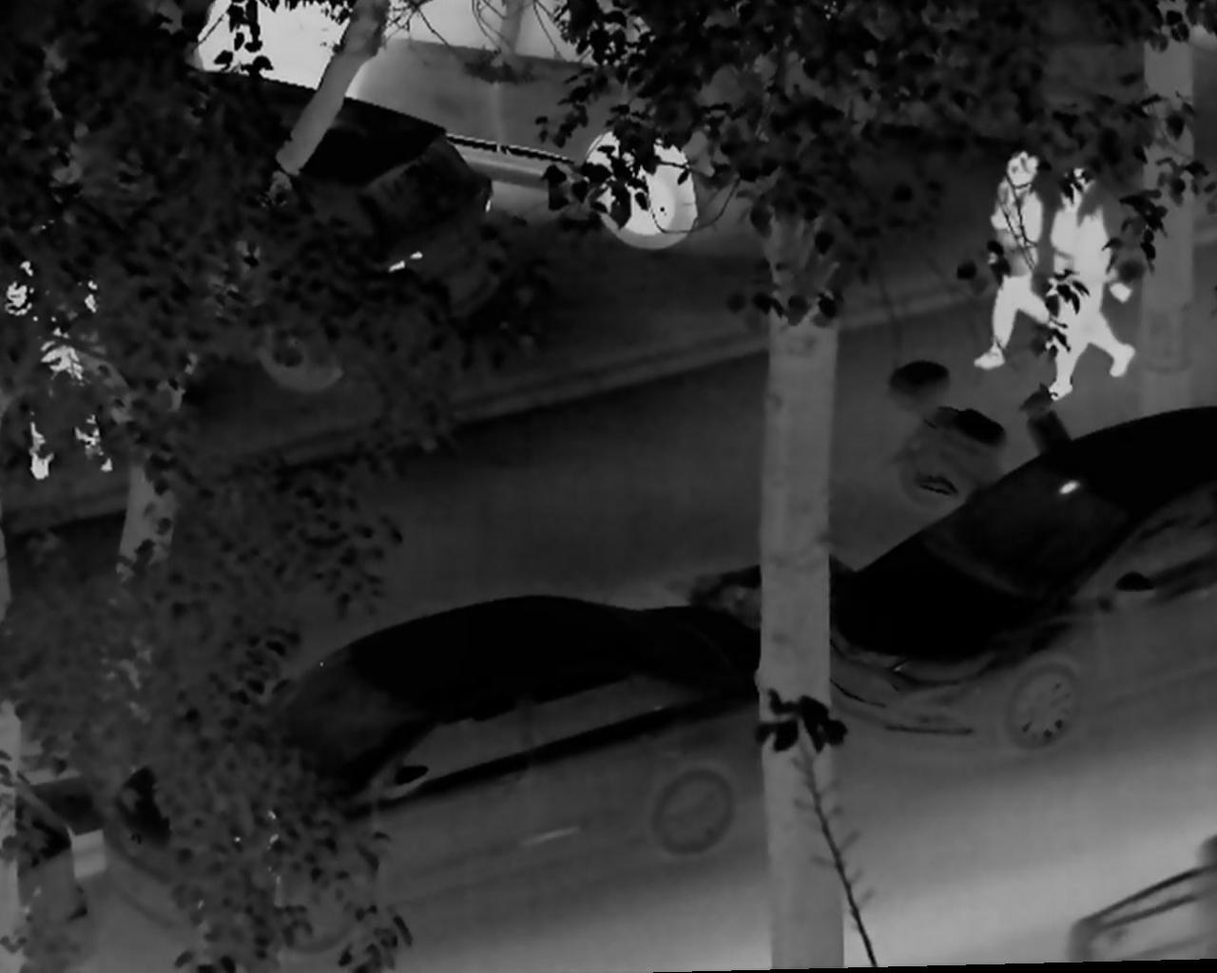person: (6, 226, 122, 486), (1037, 157, 1144, 404), (966, 150, 1059, 374)
